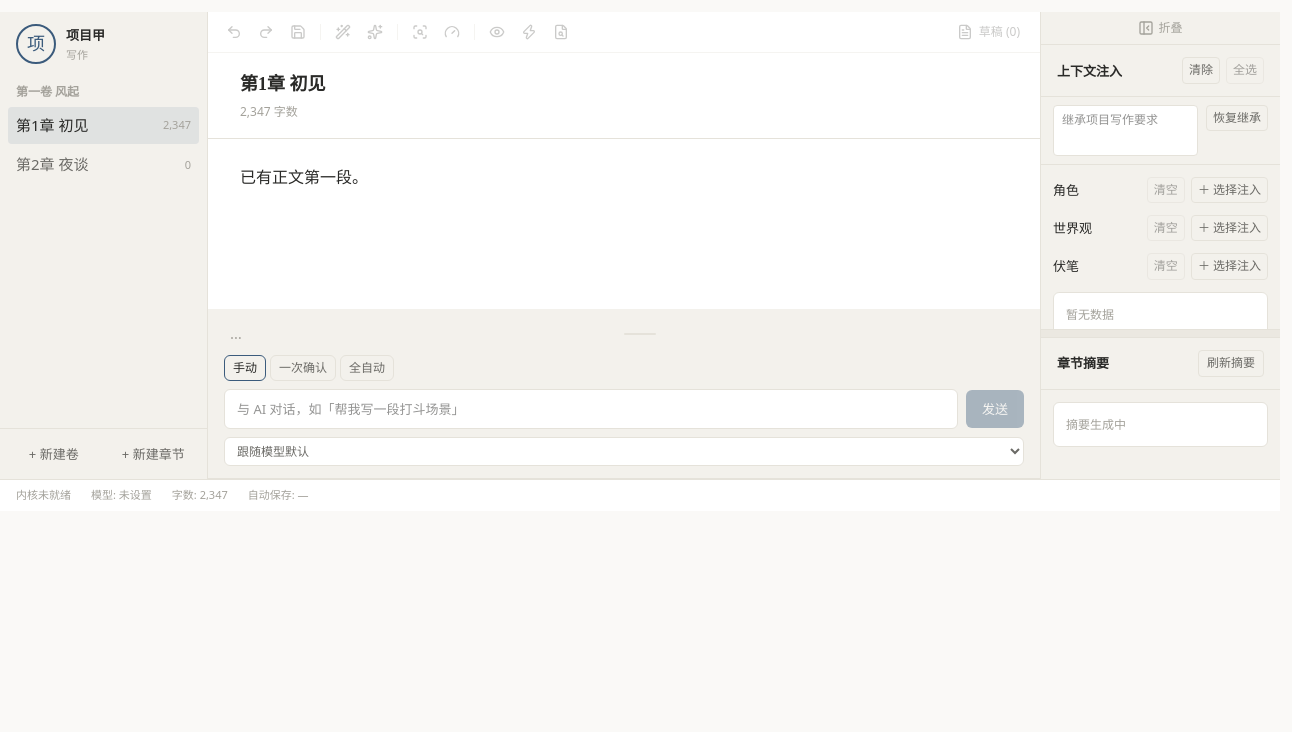
Test: 写作页 — 执行详情页隐藏 ChatPanel（#565） › view=detail 不渲染 ChatPanel（仅 editor 视图有）
expect the element with test id "chat-panel" is shown: met, box [208,309,1040,479]
# 切到 detail 视图
Click the button with test id "view-toggle" at (497, 32), box [483,18,511,46]
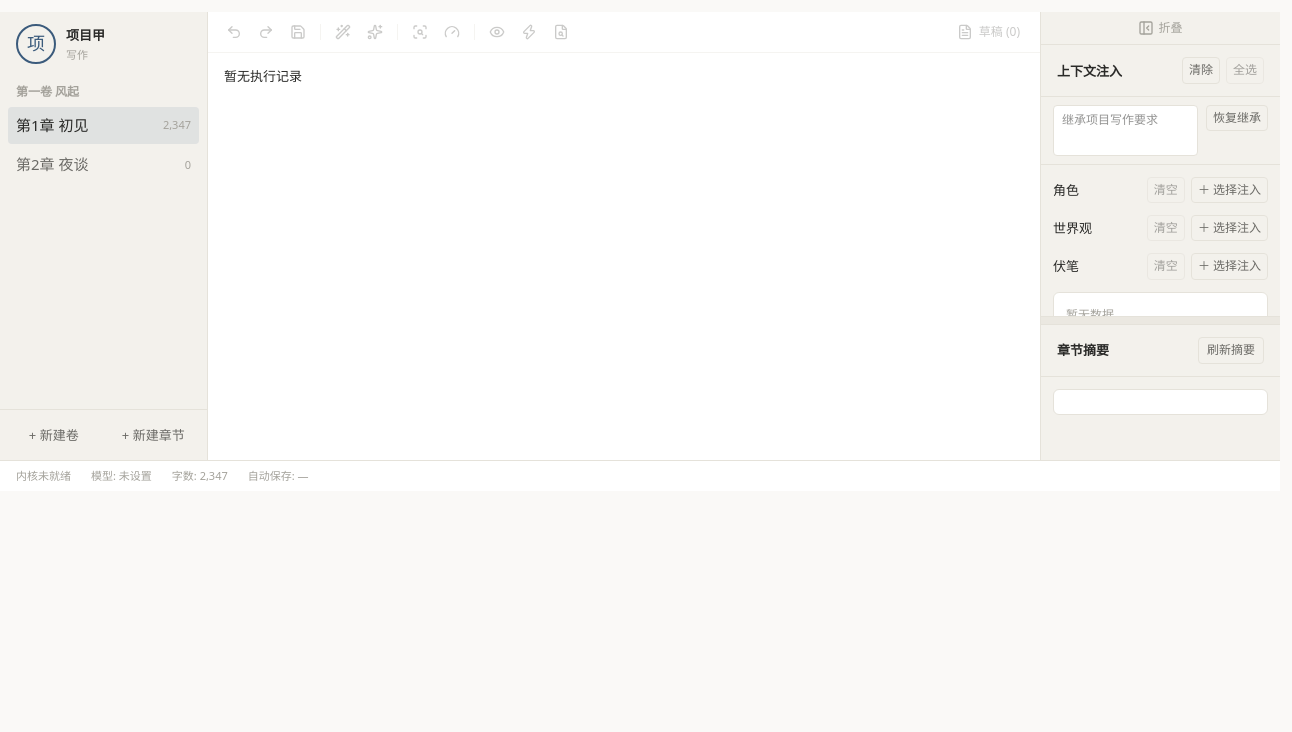
expect the element with test id "chat-panel" is gone: met
expect the text "暂无执行记录" is shown: met, box [224,67,302,85]
